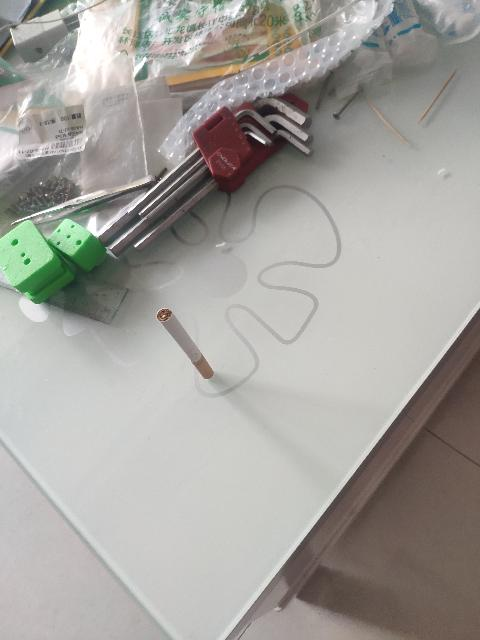Cigarette: (158, 308, 214, 380)
